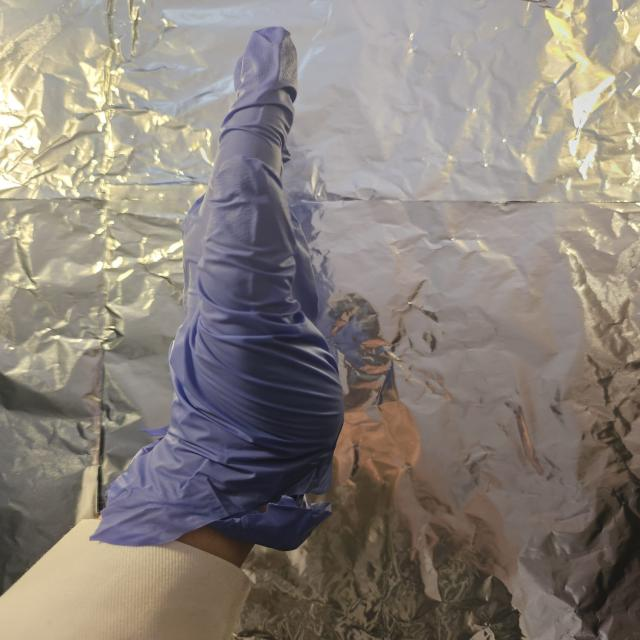gloves_damaged: (85, 25, 346, 553)
